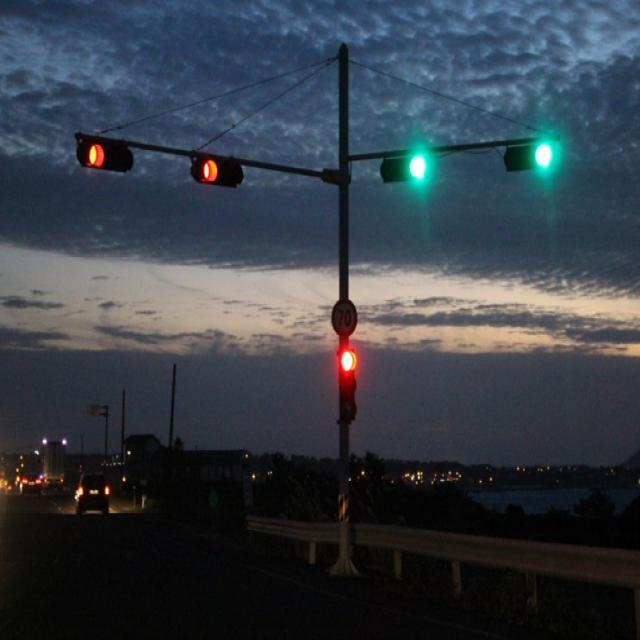Green Light: (408, 153, 428, 185), (533, 142, 555, 171)
Red Light: (83, 139, 105, 170), (338, 343, 358, 376), (198, 156, 219, 186)
